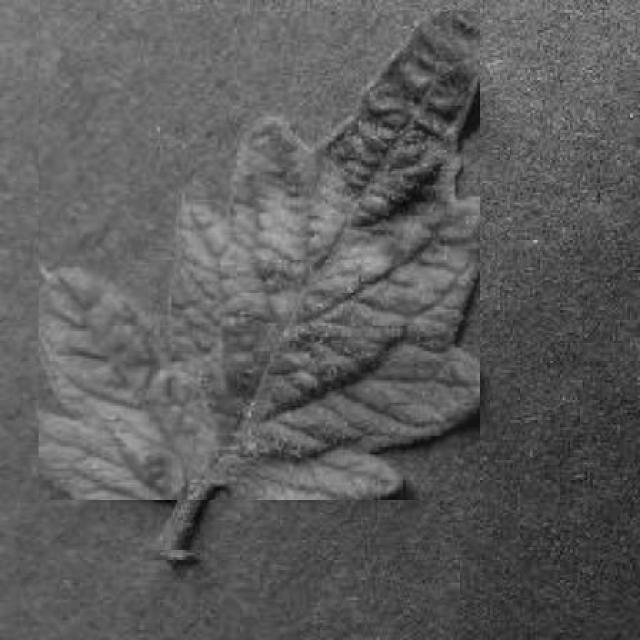Mosaic Virus: (39, 11, 480, 500)
